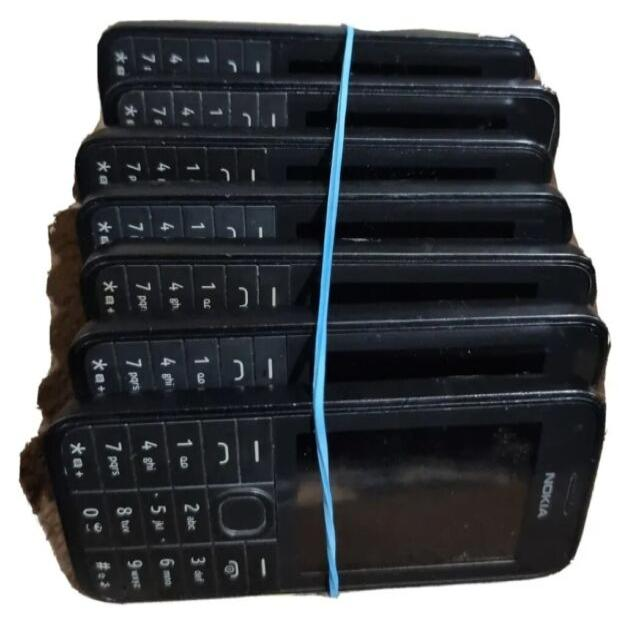mobile phone: (40, 17, 611, 603)
